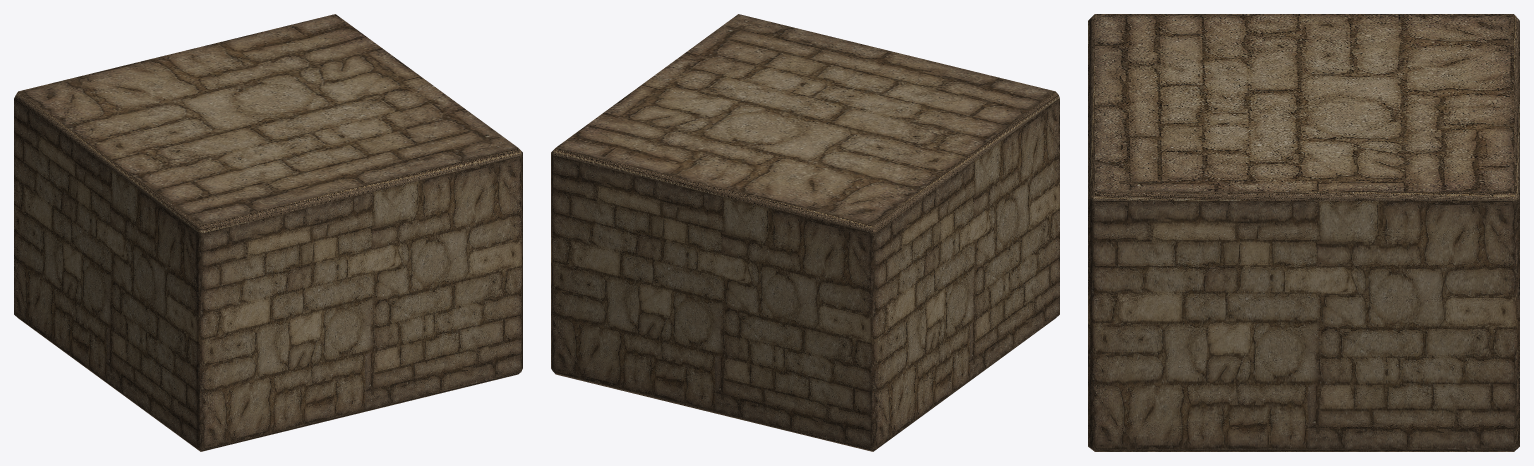
File: Block_02.fbx
3 renders of one model, left to right at view 1: azimuth 30°, elevation 25°; view 2: azimuth 150°, elevation 25°; view 3: azimuth 270°, elevation 25°, orthographic. The views are drawn at different scales.
Parts seen in each view (by area): view 1: Block_02; view 2: Block_02; view 3: Block_02.
Part boxes in pixels (left/top/right/bottom): Block_02: left=14, top=14, right=522, bottom=451; Block_02: left=551, top=14, right=1059, bottom=451; Block_02: left=1088, top=14, right=1519, bottom=451.
Bounding box in the file's own units: 5.98 × 3.97 × 5.98.
